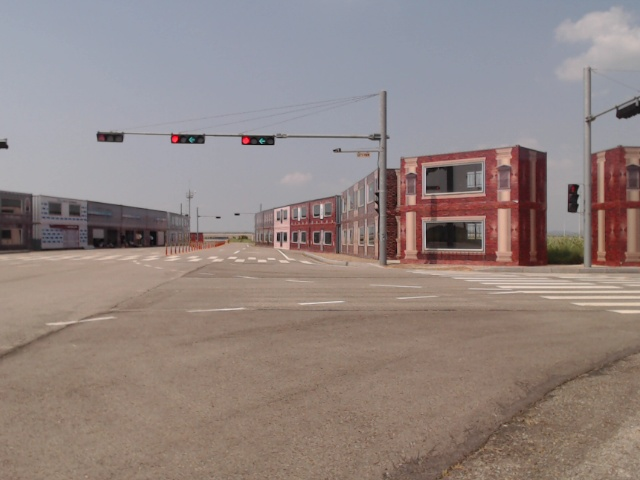left_green_4: (171, 134, 205, 144), (242, 136, 275, 146)
